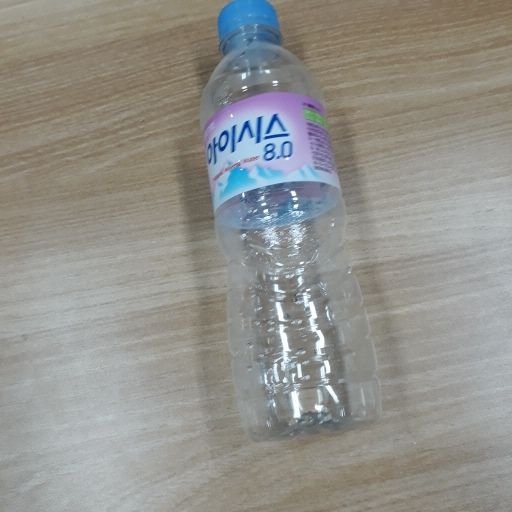Plastic_0: (197, 1, 386, 441)
